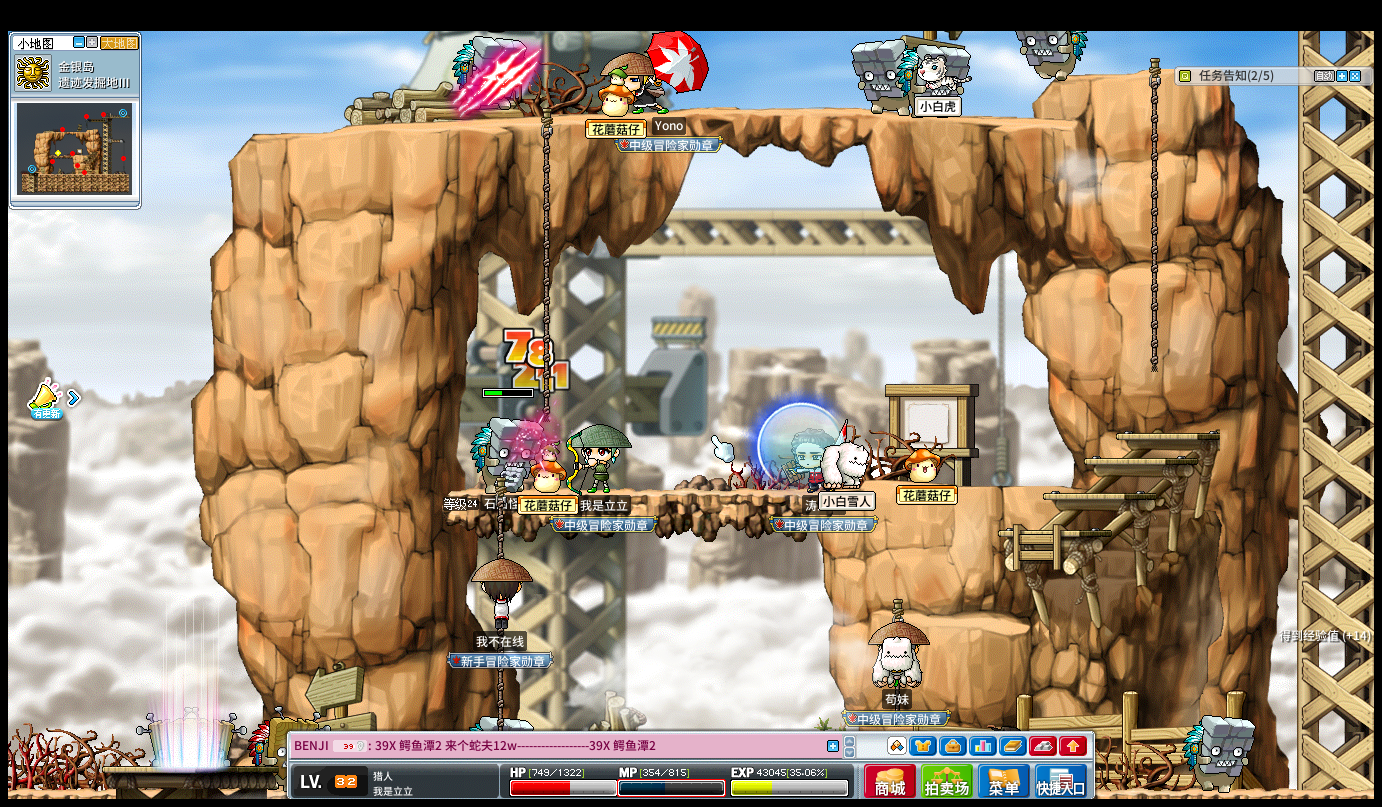floor: (245, 104, 1091, 139), (448, 488, 826, 499), (924, 613, 1029, 634), (1054, 67, 1168, 81), (1114, 429, 1221, 441), (950, 482, 1076, 492), (1077, 456, 1194, 464), (1041, 492, 1154, 500), (995, 528, 1108, 536)
monster: (1182, 715, 1256, 792), (451, 33, 514, 115), (470, 416, 526, 492), (849, 39, 902, 115)
rope: (1146, 56, 1160, 377), (541, 103, 551, 425), (541, 106, 551, 294), (492, 486, 504, 559), (493, 667, 503, 715)
